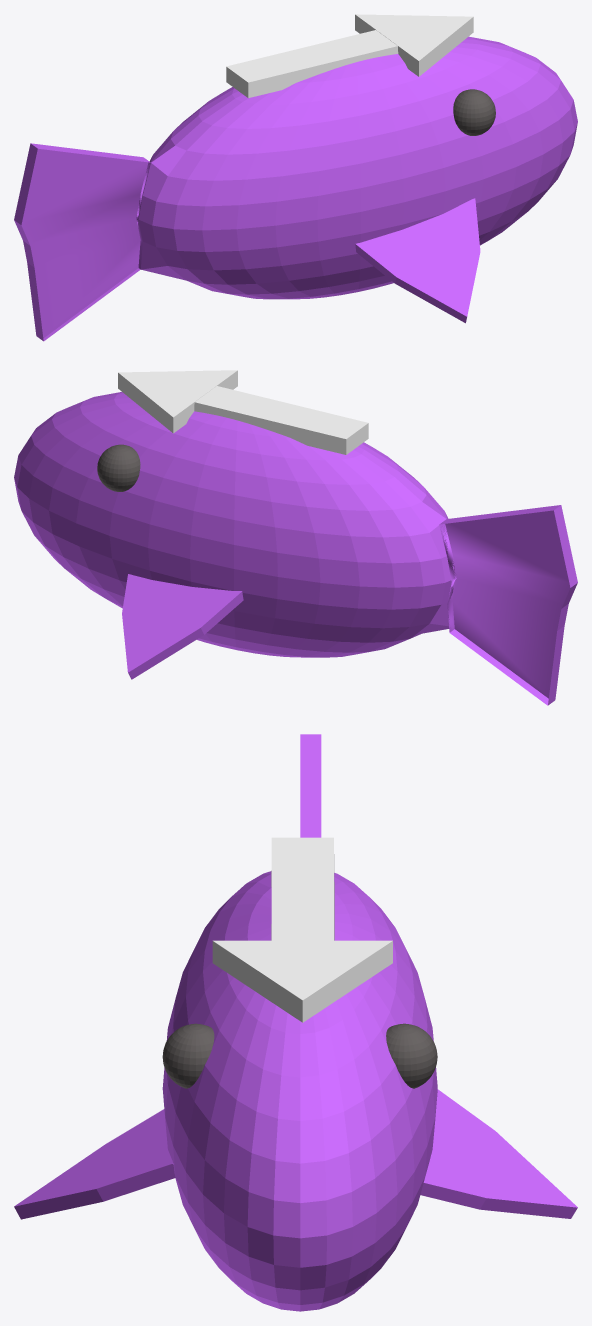
File: MidFishPurple.fbx
3 renders of one model, top to bottom at view 1: azimuth 30°, elevation 25°; view 2: azimuth 150°, elevation 25°; view 3: azimuth 270°, elevation 25°, orthographic. The views are drawn at different scales.
Parts seen in each view (by area): view 1: Сфера.004; view 2: Сфера.004; view 3: Сфера.004.
Part boxes in pixels (bbox=[...]): Сфера.004: bbox=[14, 14, 577, 341]; Сфера.004: bbox=[14, 370, 577, 705]; Сфера.004: bbox=[14, 734, 577, 1311].
Size of the model in its own units: 508 by 209 by 318.
